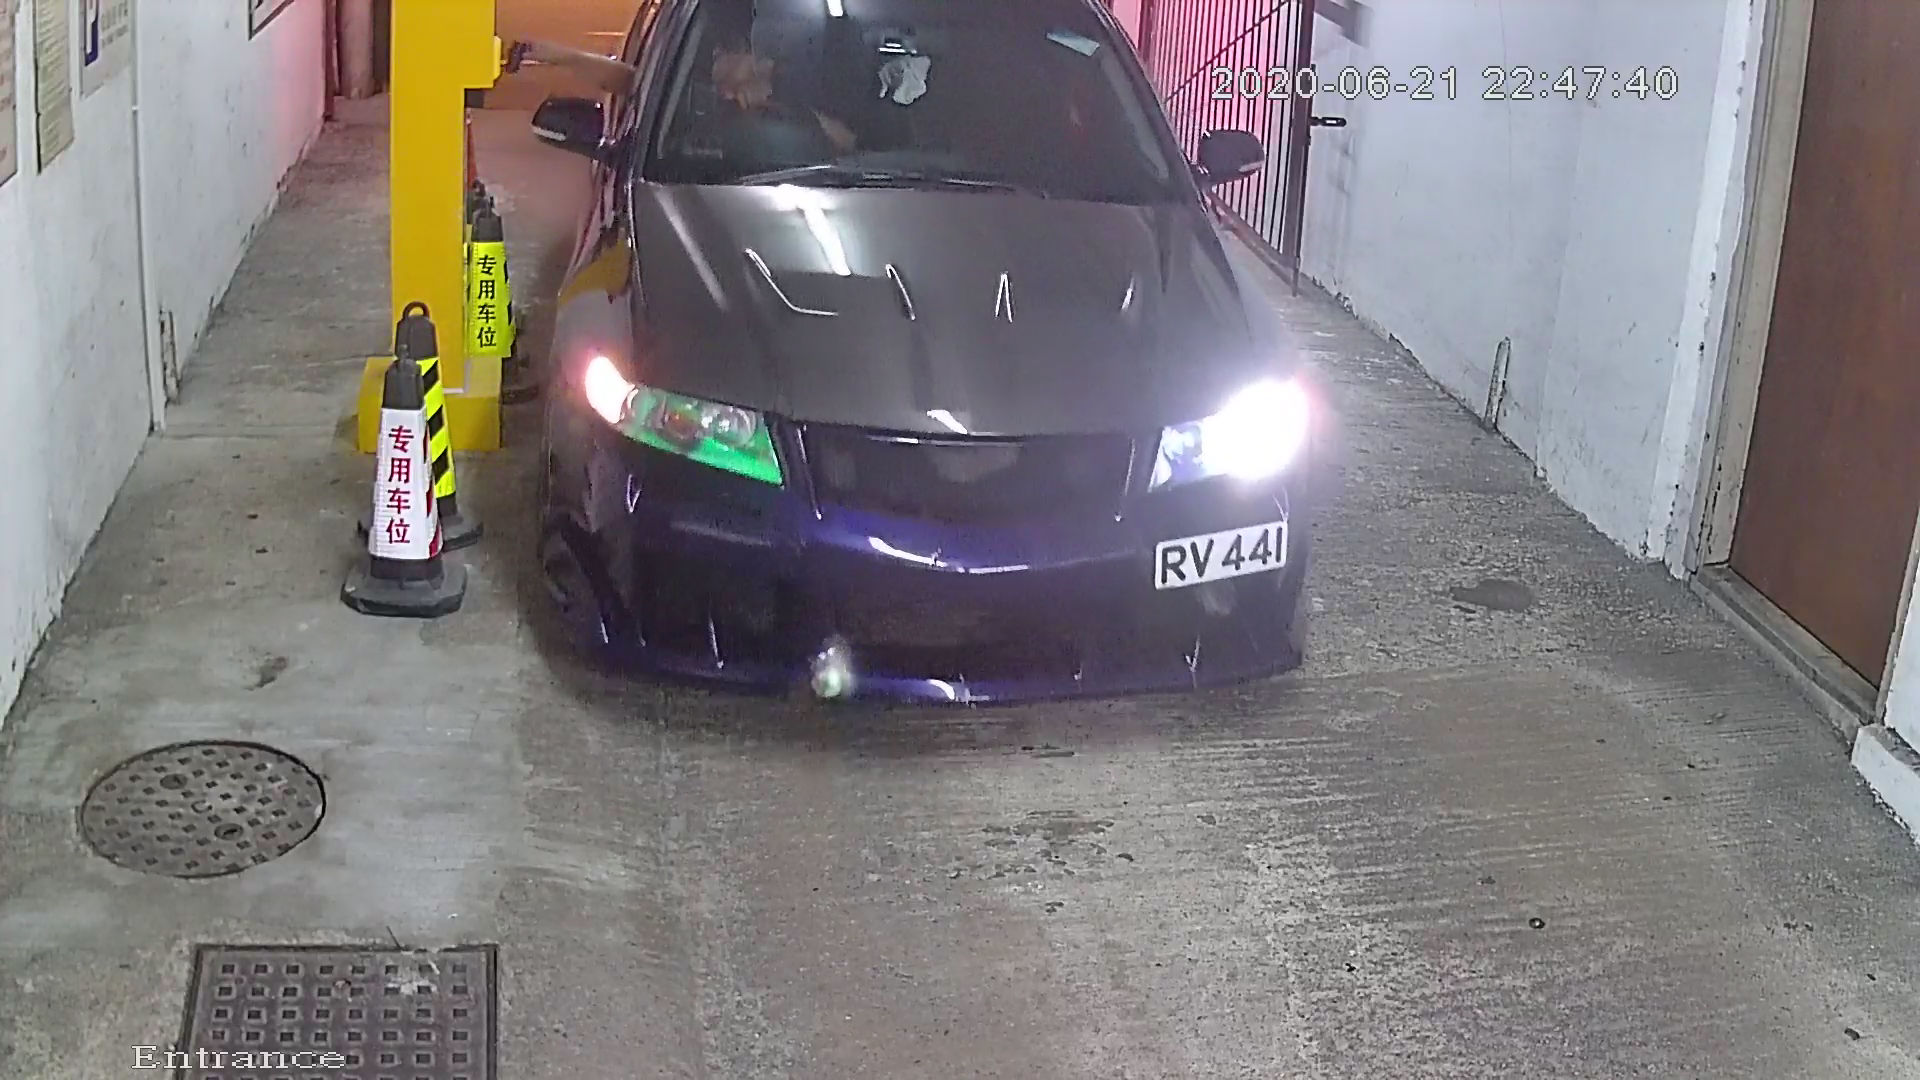privatecar: (509, 3, 1350, 790)
